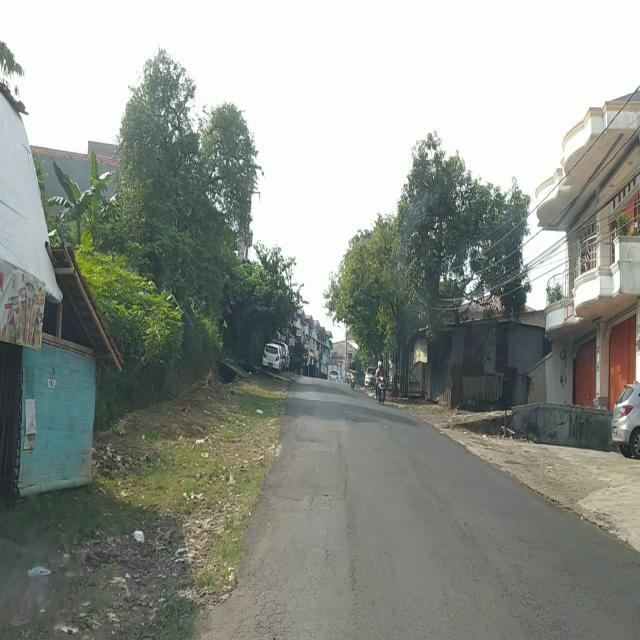Drain Hole: (236, 552, 314, 640), (308, 465, 350, 519)
